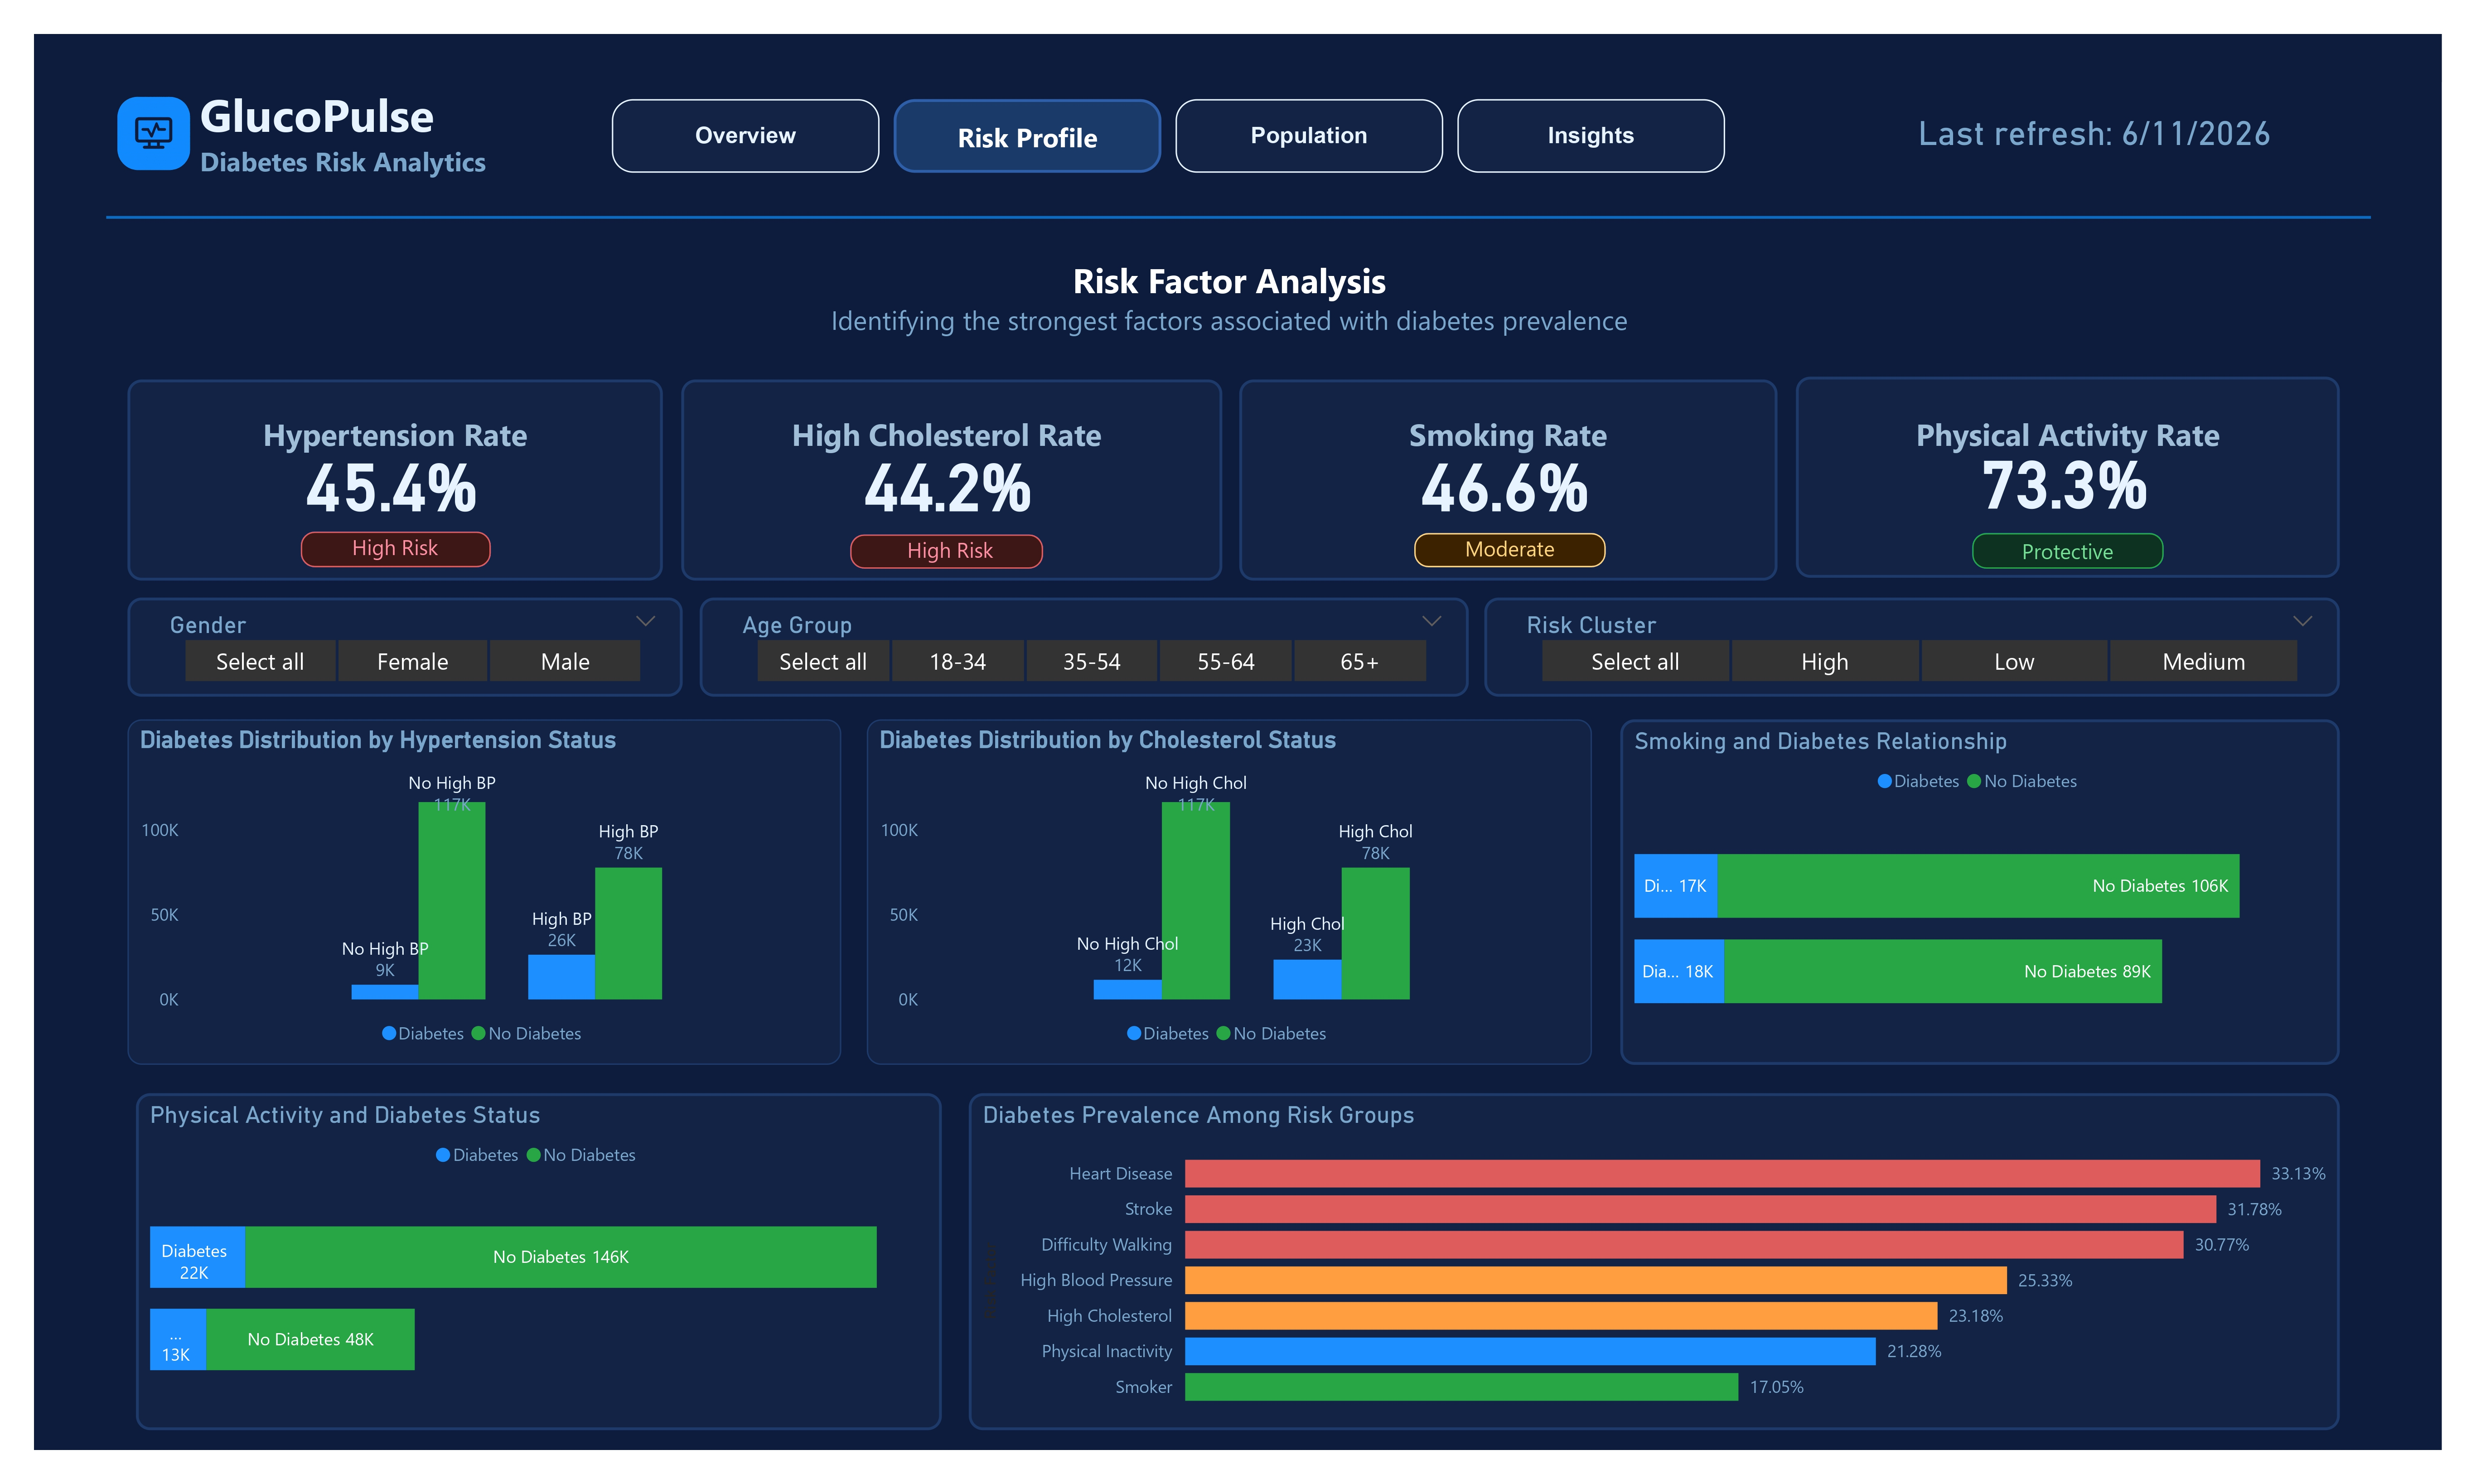

The page's visual inventory and layout, read from the dashboard file:
{"tool":"powerbi","page":{"name":"Risk Profile","canvas":[1700,1000],"ordinal":1},"visuals":[{"type":"textbox","box":[112.5,29,228.4,78.4],"z":0},{"type":"pageNavigator","box":[408.1,46.2,788.1,51.9],"z":1000},{"type":"shape","box":[51.1,107.4,1598.5,44.3],"z":2000},{"type":"image","box":[0,4.4,167.8,147.2],"z":3000},{"type":"card","fields":{"Values":["dashboard_diabetes_data.Last Refresh"]},"box":[1260,16,390,106],"z":4000},{"type":"card","title":"Total Population","fields":{"Values":["dashboard_diabetes_data.Hypertension Rate"]},"box":[66,244,378,142],"z":5000},{"type":"textbox","box":[81.7,262.5,346.7,43.3],"z":6000},{"type":"shape","box":[187.5,350.8,135.8,25.8],"z":7000},{"type":"textbox","box":[540,152,608,70],"z":8000},{"type":"card","title":"Total Population","fields":{"Values":["dashboard_diabetes_data.High Cholesterol Rate"]},"box":[456.7,244,382,142],"z":9000},{"type":"textbox","box":[470.8,262.5,346.7,40],"z":10000},{"type":"card","title":"Total Population","fields":{"Values":["dashboard_diabetes_data.Smoking Rate"]},"box":[851.3,244,380,142],"z":11000},{"type":"textbox","box":[868.3,262.5,345.8,45],"z":12000},{"type":"card","title":"Total Population","fields":{"Values":["dashboard_diabetes_data.Physical Activity Rate"]},"box":[1244,242,384,142],"z":13000},{"type":"textbox","box":[1272.5,262.5,326.7,40],"z":14000},{"type":"shape","box":[1368,352,136,26],"z":15000},{"type":"textbox","box":[185.4,348.5,140,29.2],"z":16000},{"type":"textbox","box":[1376.9,350.8,118.5,32.3],"z":17000},{"type":"slicer","title":"Sex","fields":{"Values":["dashboard_diabetes_data.Gender"]},"box":[66,398,392,70],"z":18000},{"type":"slicer","title":"Sex","fields":{"Values":["dashboard_diabetes_data.Age Group"]},"box":[470,398,543,70],"z":19000},{"type":"slicer","title":"Sex","fields":{"Values":["dashboard_diabetes_data.Risk Cluster"]},"box":[1024,398,604,70],"z":20000},{"type":"clusteredColumnChart","title":"Diabetes Distribution by Hypertension Status","fields":{"Category":["dashboard_diabetes_data.HighBP Label"],"Y":["CountNonNull(dashboard_diabetes_data.Diabetes_binary)"],"Series":["dashboard_diabetes_data.Diabetes Status"]},"box":[66,484,504,244],"z":21000},{"type":"clusteredColumnChart","title":"Diabetes Distribution by Cholesterol Status","fields":{"Y":["CountNonNull(dashboard_diabetes_data.Diabetes_binary)"],"Series":["dashboard_diabetes_data.Diabetes Status"],"Category":["dashboard_diabetes_data.HighChol Label"]},"box":[588,484,512,244],"z":22000},{"type":"barChart","title":"Smoking and Diabetes Relationship","fields":{"Category":["dashboard_diabetes_data.Smoker Label"],"Series":["dashboard_diabetes_data.Diabetes Status"],"Y":["CountNonNull(dashboard_diabetes_data.Diabetes_binary)"]},"box":[1120,484,508,244],"z":23000},{"type":"barChart","title":"Physical Activity and Diabetes Status","fields":{"Category":["dashboard_diabetes_data.PhysActivity Label"],"Series":["dashboard_diabetes_data.Diabetes Status"],"Y":["CountNonNull(dashboard_diabetes_data.Diabetes_binary)"]},"box":[72,748,569,238],"z":24000},{"type":"clusteredBarChart","title":"Diabetes Prevalence Among Risk Groups","fields":{"Y":["dashboard_diabetes_data.Prevalence Rate"],"Category":["RiskFactorsTable.Risk Factor"]},"box":[660,748,968,238],"z":25000},{"type":"shape","box":[576.2,352.5,136.2,25],"z":26000},{"type":"shape","box":[974,352,136,25],"z":27000},{"type":"textbox","box":[983,349,118,32],"z":28000},{"type":"textbox","box":[576.2,350,142.3,31.5],"z":29000}]}

Visuals, with their boxes on the page's 1700x1000 design canvas (x1, y1, x2, y2). These are canvas units, not pixel positions in the 2476x1484 screenshot, which may show the page scaled, cropped or inside an application window:
textbox: {"x1": 112, "y1": 29, "x2": 341, "y2": 107}
pageNavigator: {"x1": 408, "y1": 46, "x2": 1196, "y2": 98}
shape: {"x1": 51, "y1": 107, "x2": 1650, "y2": 152}
image: {"x1": 0, "y1": 4, "x2": 168, "y2": 152}
card - dashboard_diabetes_data.Last Refresh: {"x1": 1260, "y1": 16, "x2": 1650, "y2": 122}
"Total Population" card: {"x1": 66, "y1": 244, "x2": 444, "y2": 386}
textbox: {"x1": 82, "y1": 262, "x2": 428, "y2": 306}
shape: {"x1": 188, "y1": 351, "x2": 323, "y2": 377}
textbox: {"x1": 540, "y1": 152, "x2": 1148, "y2": 222}
"Total Population" card: {"x1": 457, "y1": 244, "x2": 839, "y2": 386}
textbox: {"x1": 471, "y1": 262, "x2": 818, "y2": 302}
"Total Population" card: {"x1": 851, "y1": 244, "x2": 1231, "y2": 386}
textbox: {"x1": 868, "y1": 262, "x2": 1214, "y2": 308}
"Total Population" card: {"x1": 1244, "y1": 242, "x2": 1628, "y2": 384}
textbox: {"x1": 1272, "y1": 262, "x2": 1599, "y2": 302}
shape: {"x1": 1368, "y1": 352, "x2": 1504, "y2": 378}
textbox: {"x1": 185, "y1": 348, "x2": 325, "y2": 378}
textbox: {"x1": 1377, "y1": 351, "x2": 1495, "y2": 383}
"Sex" slicer: {"x1": 66, "y1": 398, "x2": 458, "y2": 468}
"Sex" slicer: {"x1": 470, "y1": 398, "x2": 1013, "y2": 468}
"Sex" slicer: {"x1": 1024, "y1": 398, "x2": 1628, "y2": 468}
"Diabetes Distribution by Hypertension Status" clusteredColumnChart: {"x1": 66, "y1": 484, "x2": 570, "y2": 728}
"Diabetes Distribution by Cholesterol Status" clusteredColumnChart: {"x1": 588, "y1": 484, "x2": 1100, "y2": 728}
"Smoking and Diabetes Relationship" barChart: {"x1": 1120, "y1": 484, "x2": 1628, "y2": 728}
"Physical Activity and Diabetes Status" barChart: {"x1": 72, "y1": 748, "x2": 641, "y2": 986}
"Diabetes Prevalence Among Risk Groups" clusteredBarChart: {"x1": 660, "y1": 748, "x2": 1628, "y2": 986}
shape: {"x1": 576, "y1": 352, "x2": 712, "y2": 378}
shape: {"x1": 974, "y1": 352, "x2": 1110, "y2": 377}
textbox: {"x1": 983, "y1": 349, "x2": 1101, "y2": 381}
textbox: {"x1": 576, "y1": 350, "x2": 718, "y2": 382}
